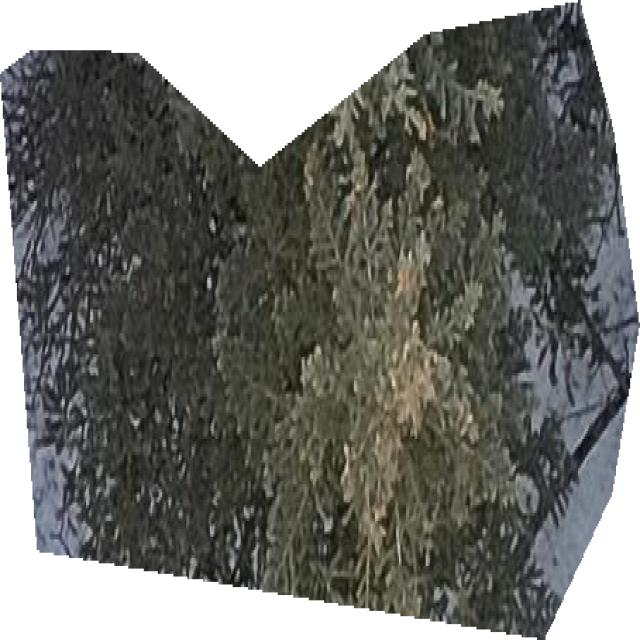spruce: (0, 3, 639, 637)
